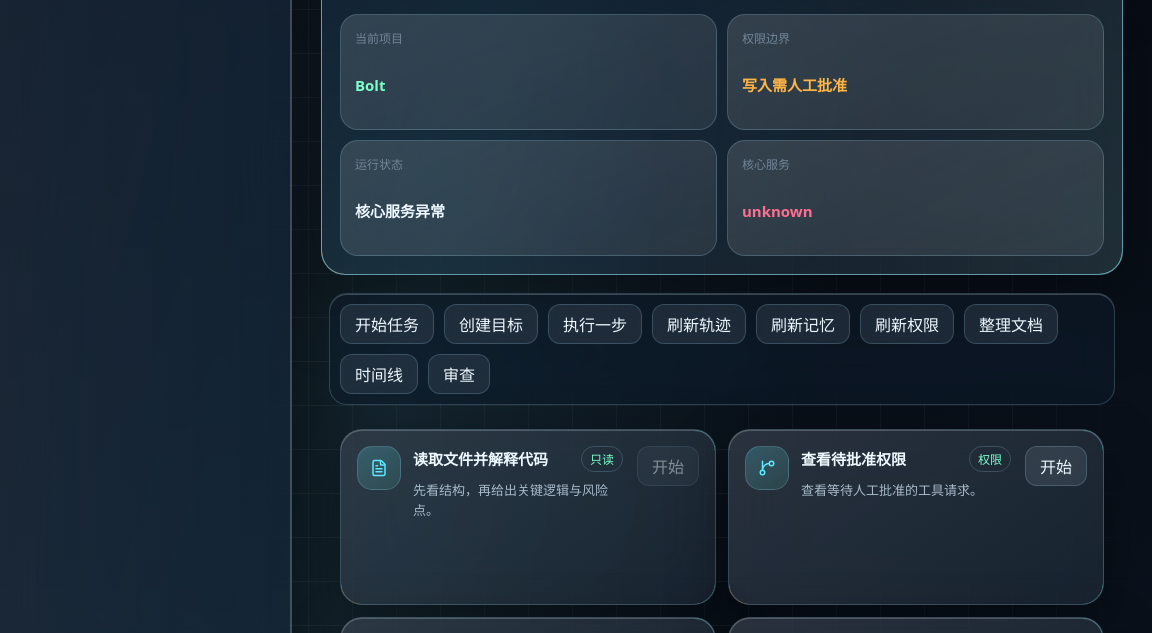
Test case: App › shows a readable error when a core action fails
(page scrolled)
Click the button "刷新记忆" at (803, 324), box [756,304,850,344]
(page scrolled)
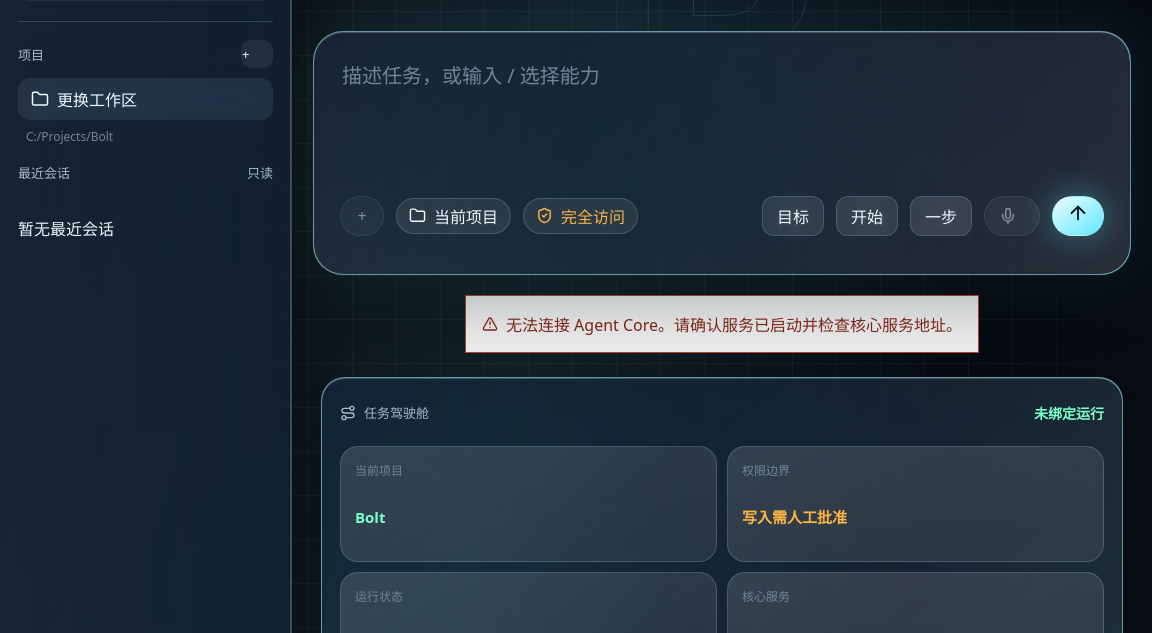
Expected: the text "无法连接 Agent Core。请确认服务已启动并检查核心服务地址。" is shown, [465,295,979,353]
